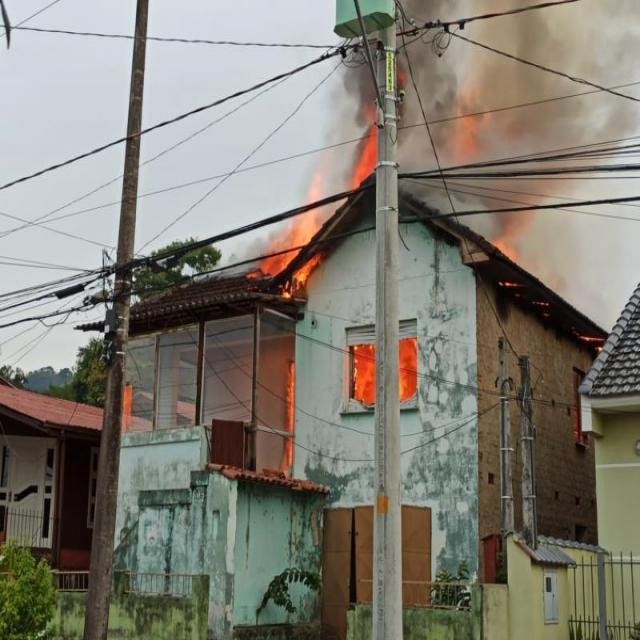Fire: (238, 179, 334, 302), (348, 342, 379, 402), (349, 122, 376, 188), (284, 360, 296, 470), (398, 335, 418, 401), (488, 236, 517, 260)
